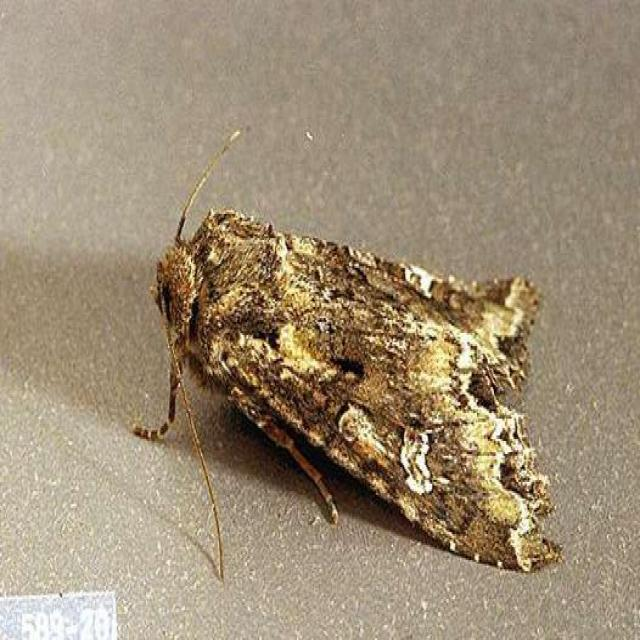BeetArmyWorm-Adult-: (114, 116, 566, 592)
